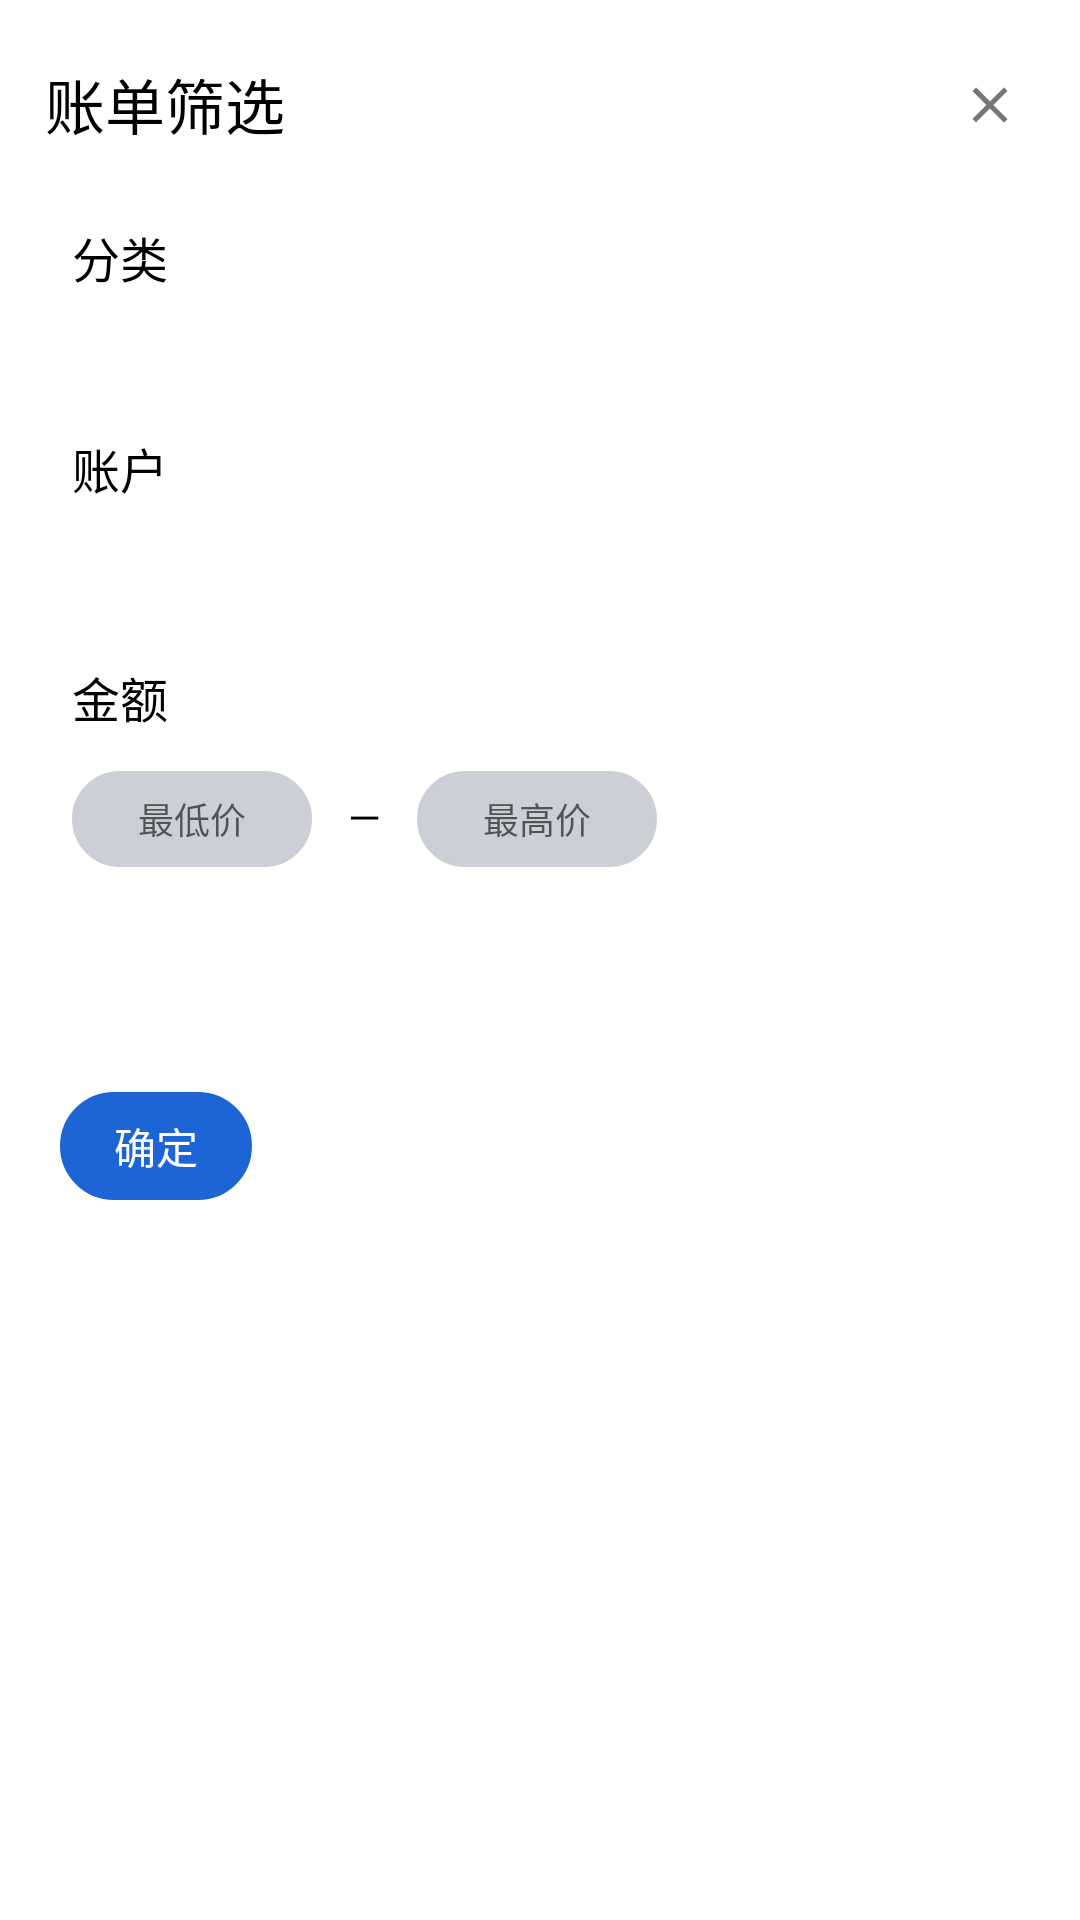

Named icons in this screenshot (1080 × 1920) and their bounding boxes, [x1,y1,x2,y2]:
filter close: [972,87,1008,123]
